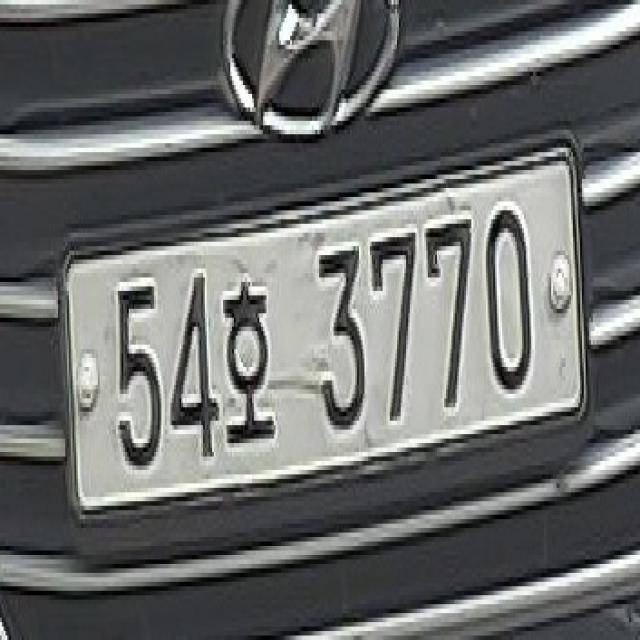0: (484, 188, 544, 412)
3: (312, 228, 373, 425)
4: (161, 233, 225, 465)
5: (100, 260, 167, 483)
7: (368, 224, 424, 443), (421, 197, 475, 407)
ho: (219, 264, 292, 452)
license_plate: (54, 125, 591, 528)
